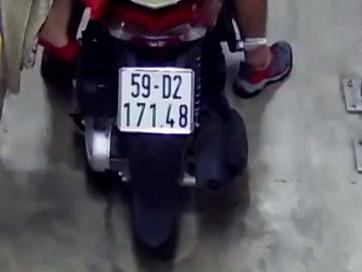num_plate: (117, 66, 194, 136)
